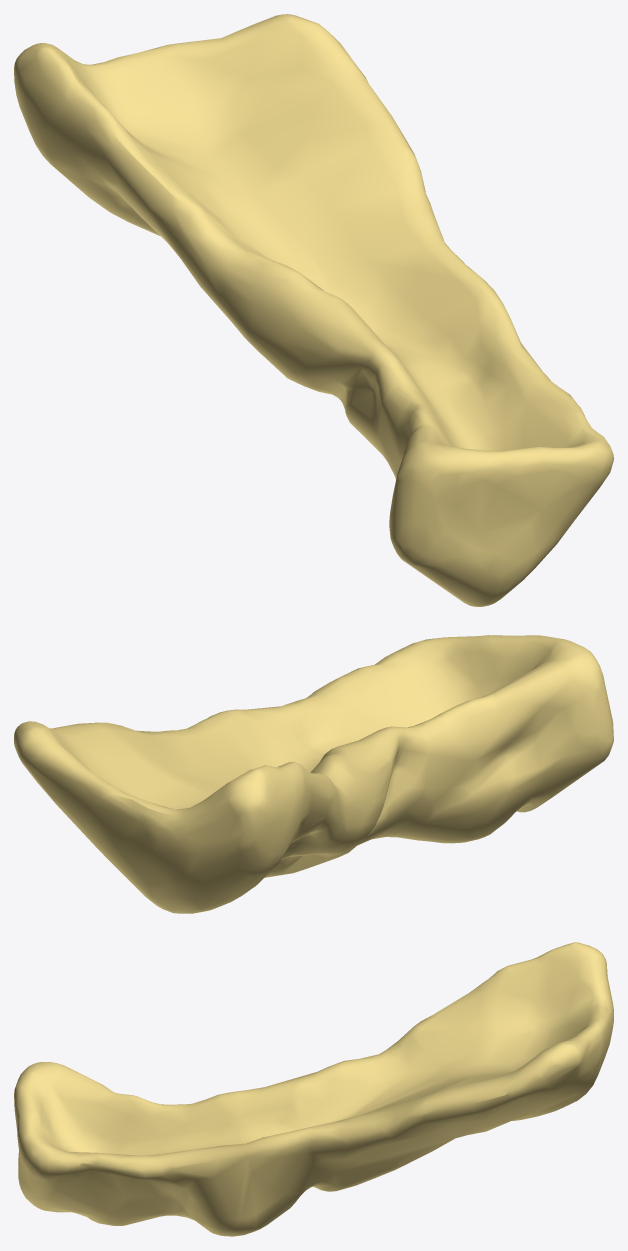
Rendered from fma72706.glb.
3 renders of one model, top to bottom at view 1: azimuth 30°, elevation 25°; view 2: azimuth 150°, elevation 25°; view 3: azimuth 270°, elevation 25°, orthographic. The views are drawn at different scales.
Visible parts, largest first — view 1: FMA72706; view 2: FMA72706; view 3: FMA72706.
Part boxes in pixels (bbox=[...]): FMA72706: bbox=[14, 14, 613, 606]; FMA72706: bbox=[14, 635, 613, 913]; FMA72706: bbox=[14, 942, 613, 1236].
Size of the model in its own units: 0.02 by 0.0209 by 0.0469.
